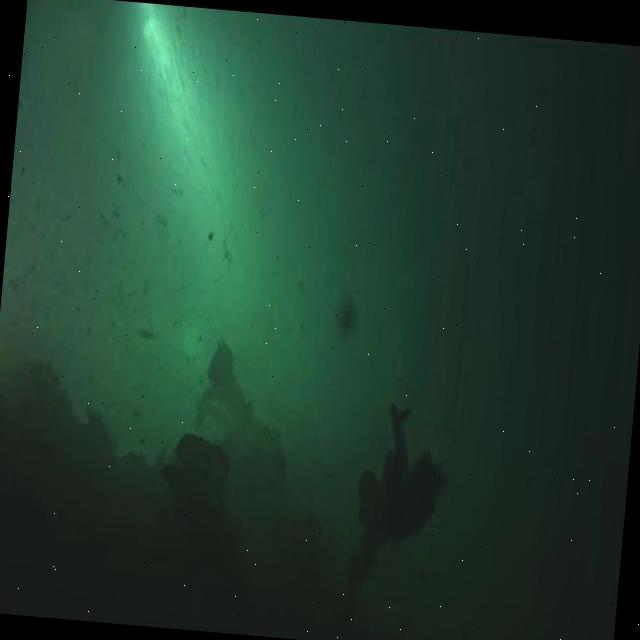fish: (204, 336, 237, 390)
